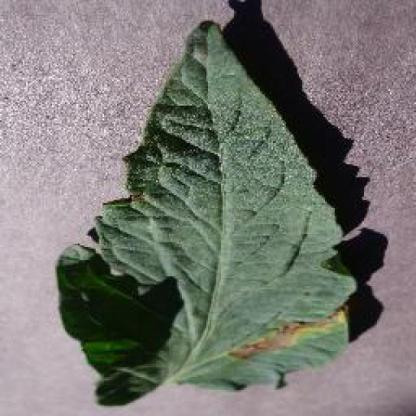Tomato_Blight: (56, 18, 353, 393)
